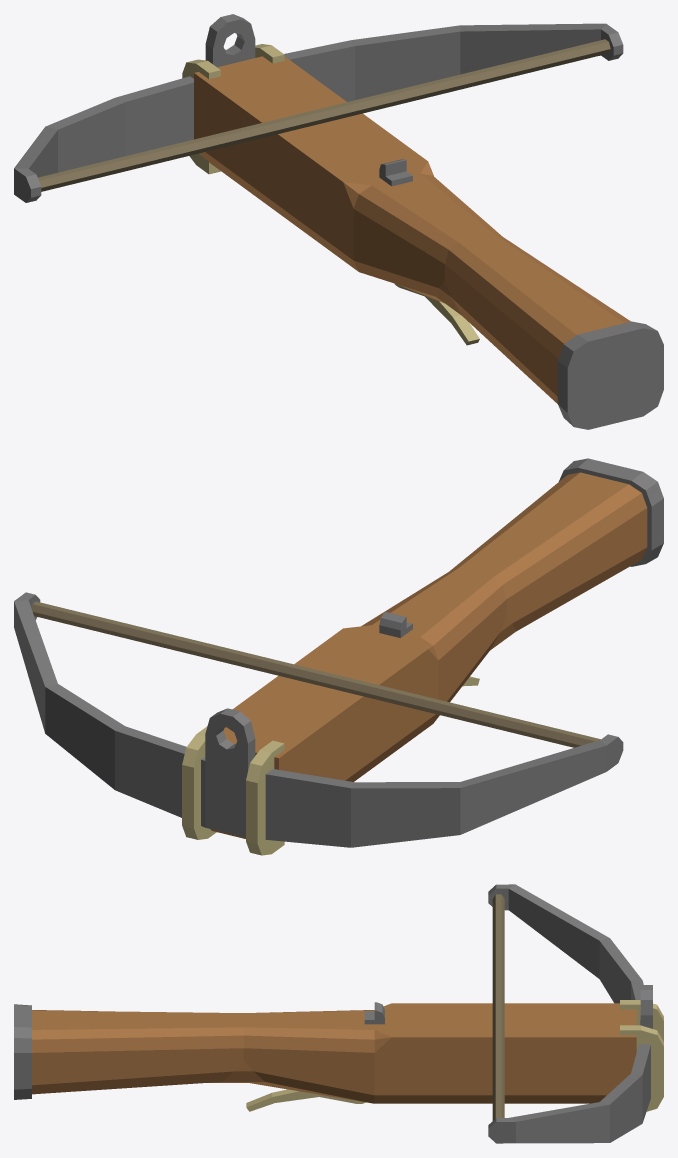
Rendered from cross-bow.glb.
3 views of the same model, one above another, from view 1: azimuth 30°, elevation 25°; view 2: azimuth 150°, elevation 25°; view 3: azimuth 270°, elevation 25° (orthographic). The views are drawn at different scales.
Parts seen in each view (by area): view 1: Arbalete; view 2: Arbalete; view 3: Arbalete.
Boxes of the visible parts, left/top/right/bottom form: Arbalete: left=14, top=14, right=663, bottom=429; Arbalete: left=14, top=458, right=663, bottom=855; Arbalete: left=14, top=884, right=663, bottom=1143.
Size of the model in its own units: 558 by 134 by 645.
